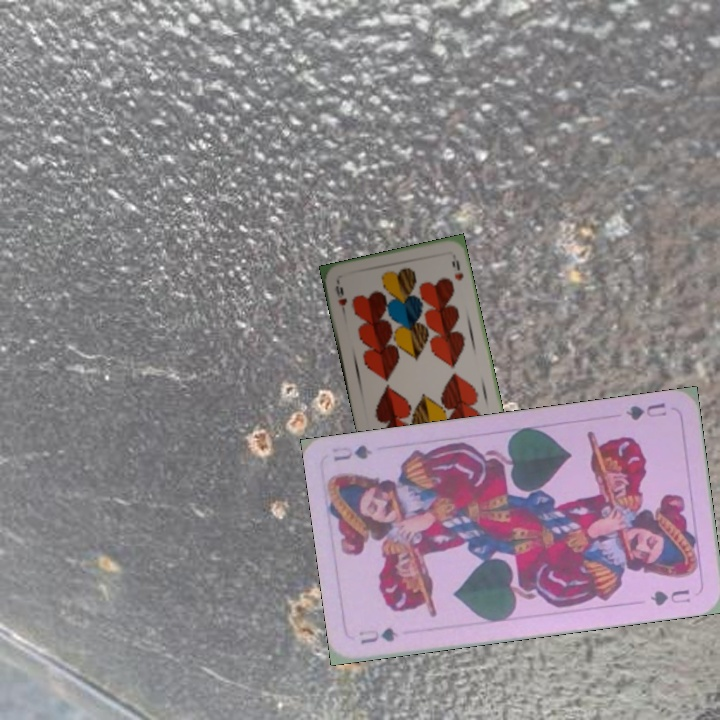GU: (621, 398, 669, 423), (354, 624, 401, 647)
H9: (330, 277, 350, 308)
